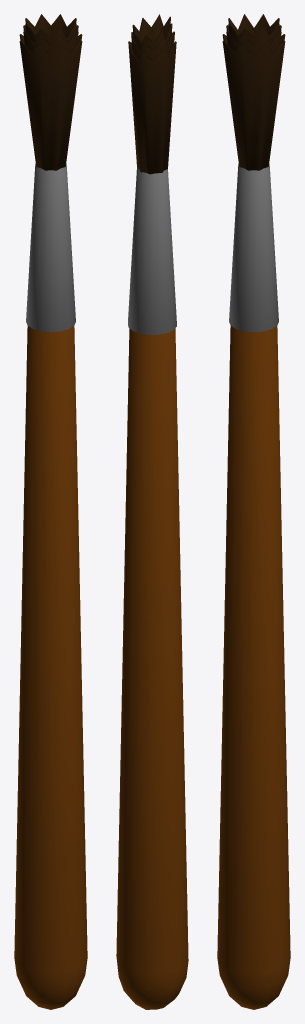
The model's file is pincel.fbx.
3 views of the same model, side by side, from view 1: azimuth 90°, elevation 25°; view 2: azimuth 150°, elevation 25°; view 3: azimuth 270°, elevation 25° (orthographic).
Parts seen in each view (by area): view 1: Object_5, Object_6, Object_4; view 2: Object_5, Object_4, Object_6; view 3: Object_5, Object_6, Object_4.
Boxes of the visible parts, bbox=[...] form: Object_5: bbox=[14, 326, 87, 1009]; Object_6: bbox=[19, 14, 82, 170]; Object_4: bbox=[26, 164, 75, 332]; Object_5: bbox=[116, 328, 188, 1009]; Object_4: bbox=[128, 167, 176, 334]; Object_6: bbox=[128, 14, 176, 174]; Object_5: bbox=[217, 326, 290, 1009]; Object_6: bbox=[222, 14, 285, 170]; Object_4: bbox=[229, 164, 278, 332].
Bounding box in the file's own units: 10.42 × 155 × 10.42.
